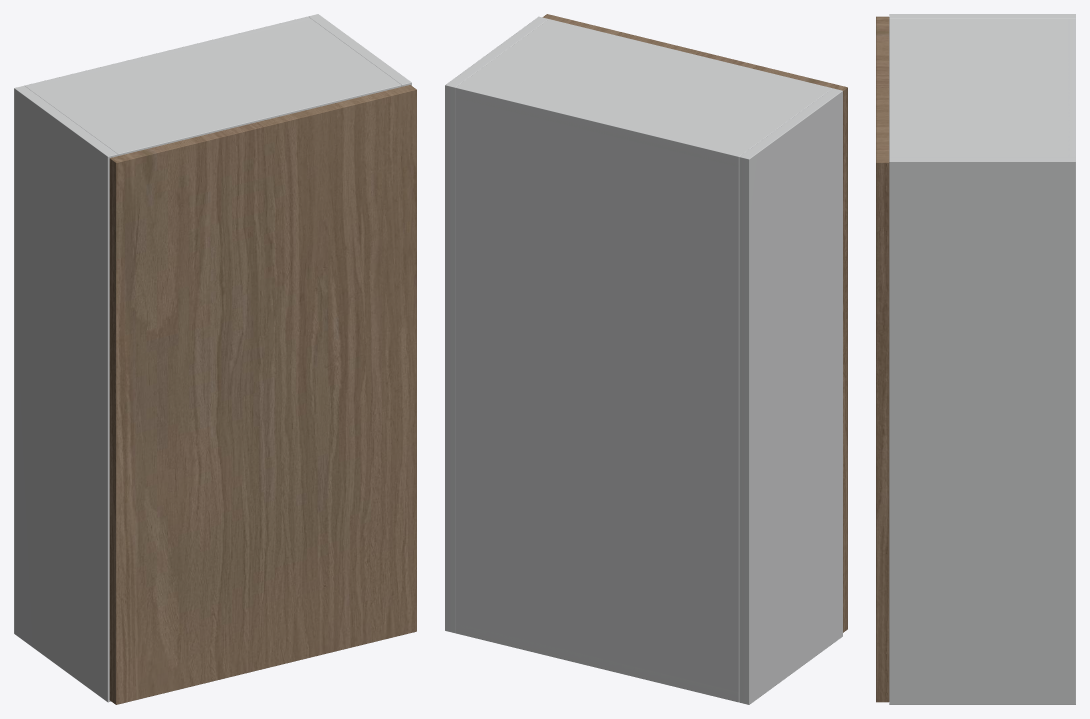
File: oppein-pb-mnw-w1236.glb
The picture shows the model from 3 angles, left to right: view 1: azimuth 30°, elevation 25°; view 2: azimuth 150°, elevation 25°; view 3: azimuth 270°, elevation 25°; orthographic projection.
Parts seen in each view (by area): view 1: Door, Cabinet side, Cabinet top, Cabinet back, Cabinet side.001; view 2: Cabinet back, Cabinet side, Cabinet top, Cabinet side.001, Door, Cabinet bottom; view 3: Cabinet side.001, Cabinet top, Door, Cabinet back, Cabinet side.
Part boxes in pixels (x1=…): Door: x1=109, y1=85, x2=416, y2=704; Cabinet side: x1=14, y1=86, x2=117, y2=702; Cabinet top: x1=25, y1=19, x2=401, y2=155; Cabinet back: x1=25, y1=16, x2=310, y2=87; Cabinet side.001: x1=308, y1=14, x2=411, y2=86; Cabinet back: x1=455, y1=85, x2=742, y2=702; Cabinet side: x1=739, y1=88, x2=842, y2=704; Cabinet top: x1=455, y1=19, x2=832, y2=166; Cabinet side.001: x1=445, y1=16, x2=548, y2=632; Door: x1=542, y1=14, x2=847, y2=632; Cabinet bottom: x1=455, y1=623, x2=739, y2=701; Cabinet side.001: x1=889, y1=157, x2=1075, y2=704; Cabinet top: x1=889, y1=19, x2=1075, y2=156; Door: x1=876, y1=16, x2=889, y2=702; Cabinet back: x1=1068, y1=19, x2=1075, y2=156; Cabinet side: x1=889, y1=14, x2=1075, y2=18.
Size of the model in its own units: 0.5334 by 0.9144 by 0.3048.
2 materials, 1 textured.
